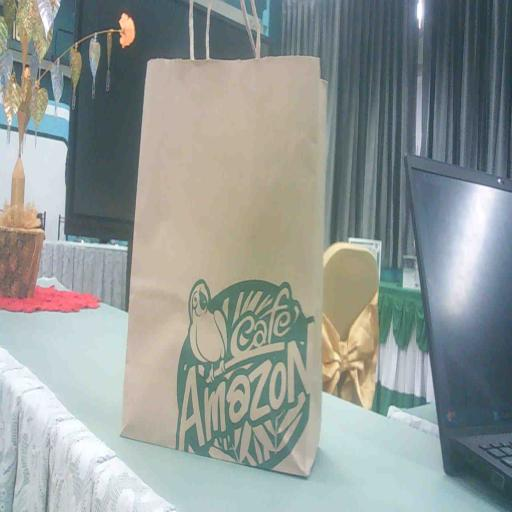bag: (118, 44, 338, 478)
